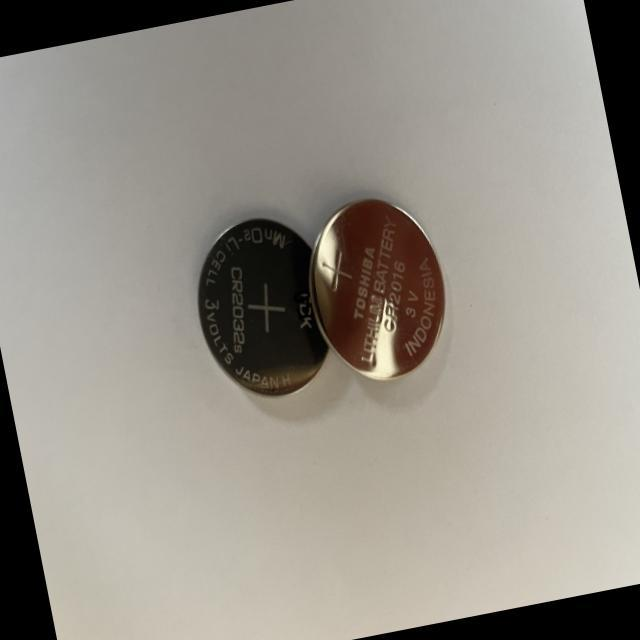COIN: (295, 188, 459, 390), (181, 206, 341, 410)
